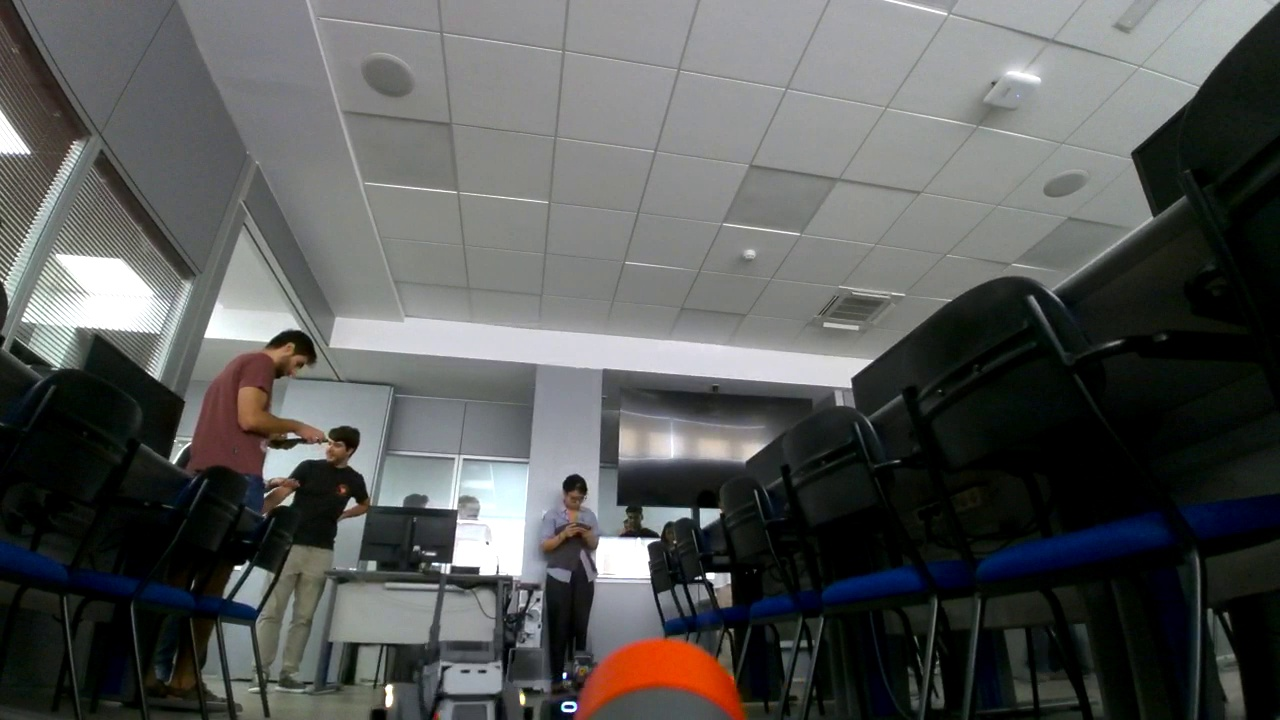robot: (370, 574, 530, 720), (544, 636, 600, 720)
